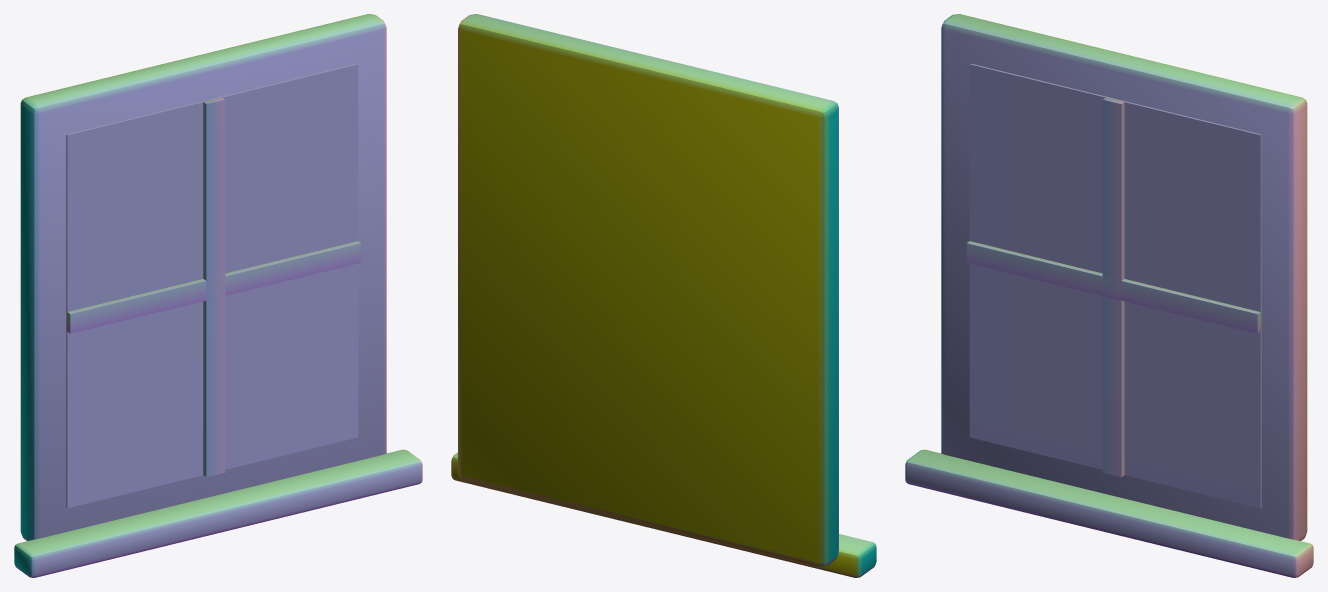
File: hall_window.glb
The picture shows the model from 3 angles, left to right: view 1: azimuth 30°, elevation 25°; view 2: azimuth 150°, elevation 25°; view 3: azimuth 330°, elevation 25°; orthographic projection. The views are drawn at different scales.
Visible parts, largest first — view 1: hall_window; view 2: hall_window; view 3: hall_window.
Boxes of the visible parts, left/top/right/bottom form: hall_window: left=14, top=14, right=422, bottom=577; hall_window: left=451, top=14, right=876, bottom=577; hall_window: left=905, top=14, right=1313, bottom=577.
Size of the model in its own units: 0.84 by 0.93 by 0.12.
